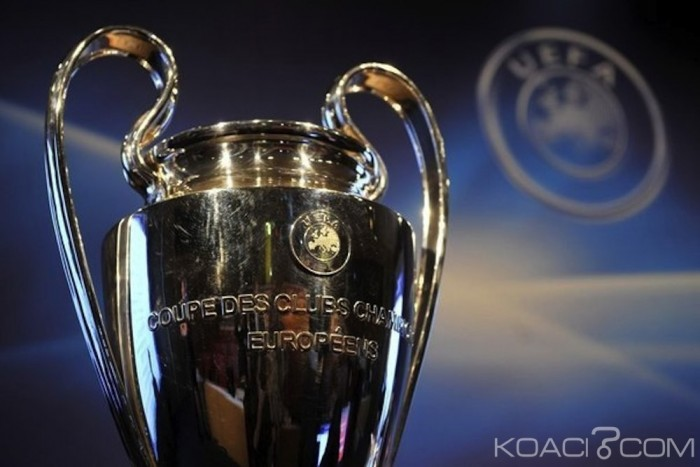trophy: (36, 21, 460, 467)
